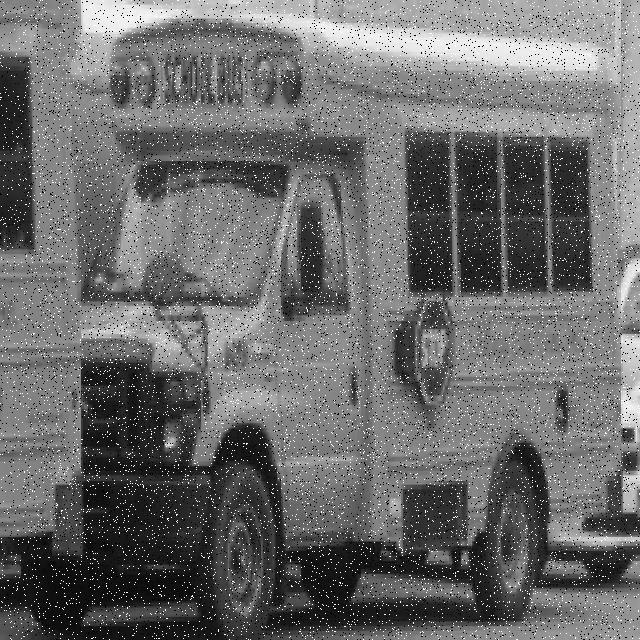Bus- Small: (23, 12, 629, 640)
